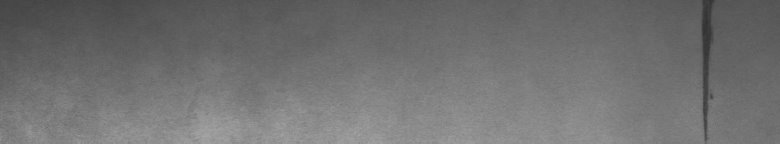hd: (696, 4, 717, 136)
